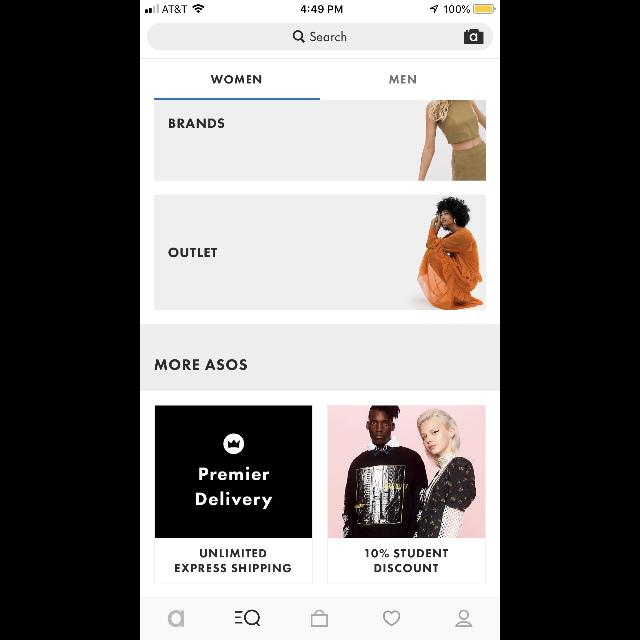icon: (236, 610, 260, 626), (310, 610, 328, 626), (384, 610, 401, 626), (456, 610, 472, 626), (293, 31, 305, 43)
image: (328, 406, 486, 538), (156, 406, 312, 538), (417, 196, 483, 310), (418, 100, 486, 180), (464, 30, 484, 44)
input: (147, 23, 493, 51)
text: (175, 550, 291, 572), (366, 549, 448, 573), (155, 360, 247, 370), (168, 118, 225, 128), (168, 248, 218, 258), (212, 76, 262, 84), (310, 32, 346, 42), (168, 610, 185, 626), (389, 76, 416, 84)
uppertaskbar: (140, 0, 500, 14)
